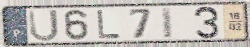3: (192, 5, 221, 40)
6: (63, 8, 90, 41)
7: (128, 8, 154, 40)
I: (160, 6, 174, 40)
L: (96, 9, 123, 40)
U: (27, 8, 61, 42)
